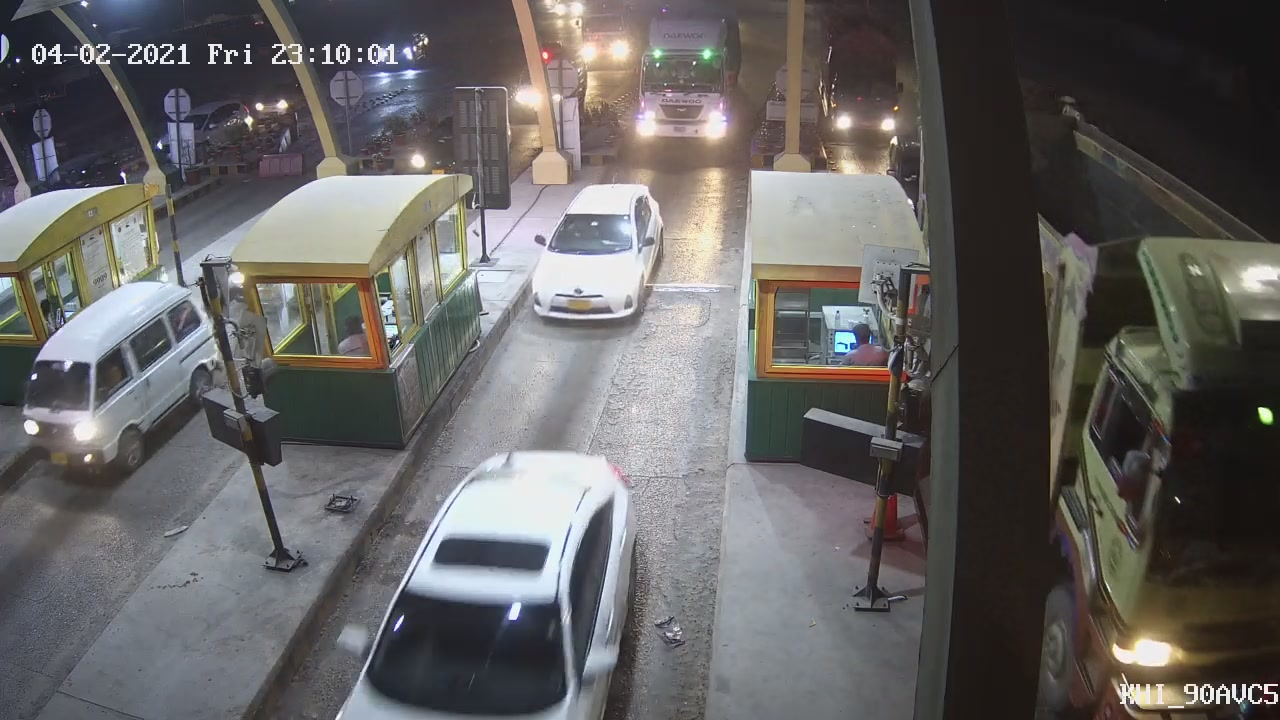F1: (528, 178, 677, 325)
